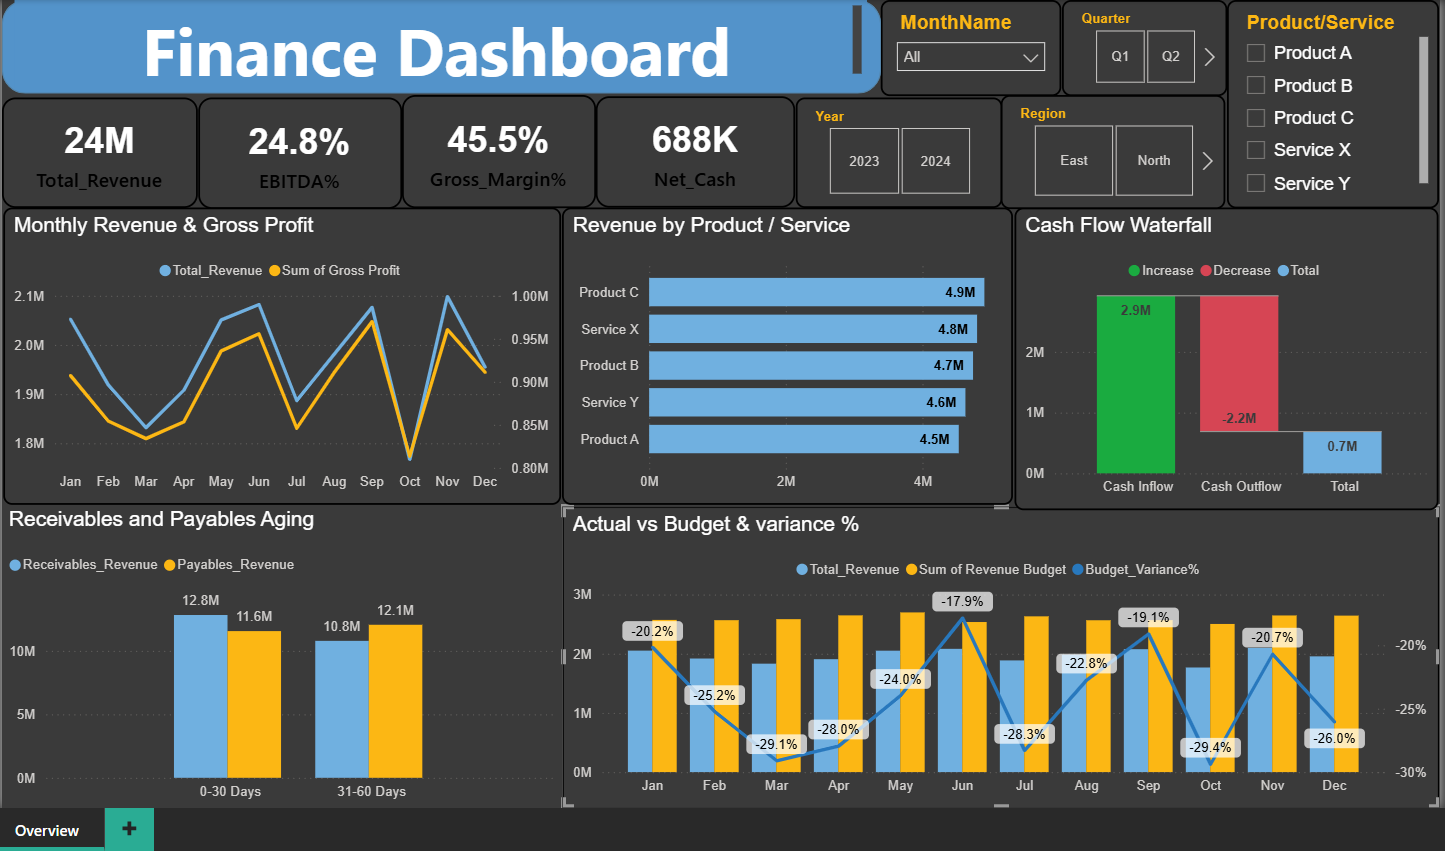

What the dashboard file says about the page in this screenshot:
{"tool":"powerbi","page":{"name":"Overview","canvas":[1280,720],"ordinal":0},"visuals":[{"type":"lineChart","title":"Monthly Revenue & Gross Profit ","fields":{"Category":["Financial Data.Year","Financial Data.Quarter","Financial Data.MonthName"],"Y":["Financial Data.Total_Revenue"],"Y2":["Sum(Financial Data.Gross Profit)"]},"box":[1.2,185.3,496.9,265],"z":0},{"type":"card","fields":{"Values":["Financial Data.EBITDA%"]},"box":[174.2,87.1,181.6,99.4],"z":1000},{"type":"card","fields":{"Values":["Financial Data.Total_Revenue"]},"box":[0,87.1,174.2,98.2],"z":2000},{"type":"card","fields":{"Values":["Financial Data.Net_Cash"]},"box":[528.8,85.9,177.9,99.4],"z":3000},{"type":"lineClusteredColumnComboChart","title":"Actual vs Budget & variance %","fields":{"Category":["Financial Data.MonthName"],"Y2":["Financial Data.Budget_Variance%"],"Y":["Financial Data.Total_Revenue","Sum(Financial Data.Revenue Budget)"]},"box":[498.2,450.3,781.6,269.9],"z":4000},{"type":"card","fields":{"Values":["Financial Data.Gross_Margin%"]},"box":[355.8,84.7,173,100.6],"z":5000},{"type":"slicer","fields":{"Values":["Financial Data.Year"]},"box":[706.8,87.1,184.1,98.2],"z":6000},{"type":"slicer","fields":{"Values":["Financial Data.MonthName"]},"box":[782.8,0,160.7,85.9],"z":7000},{"type":"slicer","fields":{"Values":["Financial Data.Quarter"]},"box":[943.6,0,147.2,85.9],"z":8000},{"type":"slicer","fields":{"Values":["Financial Data.Product/Service"]},"box":[1090.8,0,189,185.3],"z":9000},{"type":"shape","box":[0,0,782.8,83.4],"z":10000},{"type":"textbox","box":[11,0,759.5,78.5],"z":11000},{"type":"barChart","title":"Revenue by Product / Service","fields":{"Category":["Financial Data.Product/Service"],"Y":["Financial Data.Total_Revenue"]},"box":[498.2,185.3,401.2,265],"z":12000},{"type":"waterfallChart","title":"Cash Flow Waterfall","fields":{"Category":["Cash Flow Type.Cash Flow Type"],"Y":["Financial Data.Cash Flow Waterfall"]},"box":[902.2,185.2,377.9,269.9],"z":14000},{"type":"slicer","fields":{"Values":["Financial Data.Region"]},"box":[889.6,84.7,200,101.8],"z":15000},{"type":"clusteredColumnChart","title":"Receivables and Payables Aging","fields":{"Category":["Aging.Aging_Bucket"],"Y":["Financial Data.Receivables_Revenue","Financial Data.Payables_Revenue"]},"box":[1.2,451.5,496.9,268.7],"z":15001}]}

Visuals, with their boxes on the page's 1280x720 design canvas (x1, y1, x2, y2). These are canvas units, not pixel positions in the 1445x851 screenshot, which may show the page scaled, cropped or inside an application window:
"Monthly Revenue & Gross Profit " lineChart: <region>1, 185, 498, 450</region>
card - Financial Data.EBITDA%: <region>174, 87, 356, 186</region>
card - Financial Data.Total_Revenue: <region>0, 87, 174, 185</region>
card - Financial Data.Net_Cash: <region>529, 86, 707, 185</region>
"Actual vs Budget & variance %" lineClusteredColumnComboChart: <region>498, 450, 1280, 720</region>
card - Financial Data.Gross_Margin%: <region>356, 85, 529, 185</region>
slicer - Financial Data.Year: <region>707, 87, 891, 185</region>
slicer - Financial Data.MonthName: <region>783, 0, 944, 86</region>
slicer - Financial Data.Quarter: <region>944, 0, 1091, 86</region>
slicer - Financial Data.Product/Service: <region>1091, 0, 1280, 185</region>
shape: <region>0, 0, 783, 83</region>
textbox: <region>11, 0, 770, 78</region>
"Revenue by Product / Service" barChart: <region>498, 185, 899, 450</region>
"Cash Flow Waterfall" waterfallChart: <region>902, 185, 1280, 455</region>
slicer - Financial Data.Region: <region>890, 85, 1090, 186</region>
"Receivables and Payables Aging" clusteredColumnChart: <region>1, 452, 498, 720</region>
